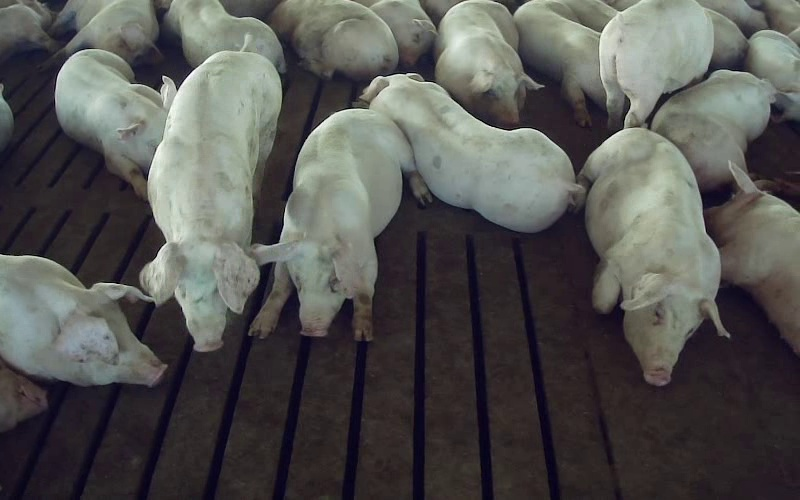pig: (140, 34, 281, 351), (250, 109, 430, 339), (580, 128, 727, 385), (361, 74, 582, 232), (55, 49, 176, 199), (705, 162, 799, 355), (651, 70, 775, 191), (434, 0, 542, 127), (514, 0, 616, 126), (269, 0, 397, 79), (161, 0, 285, 72), (41, 0, 161, 68), (370, 0, 436, 66)
